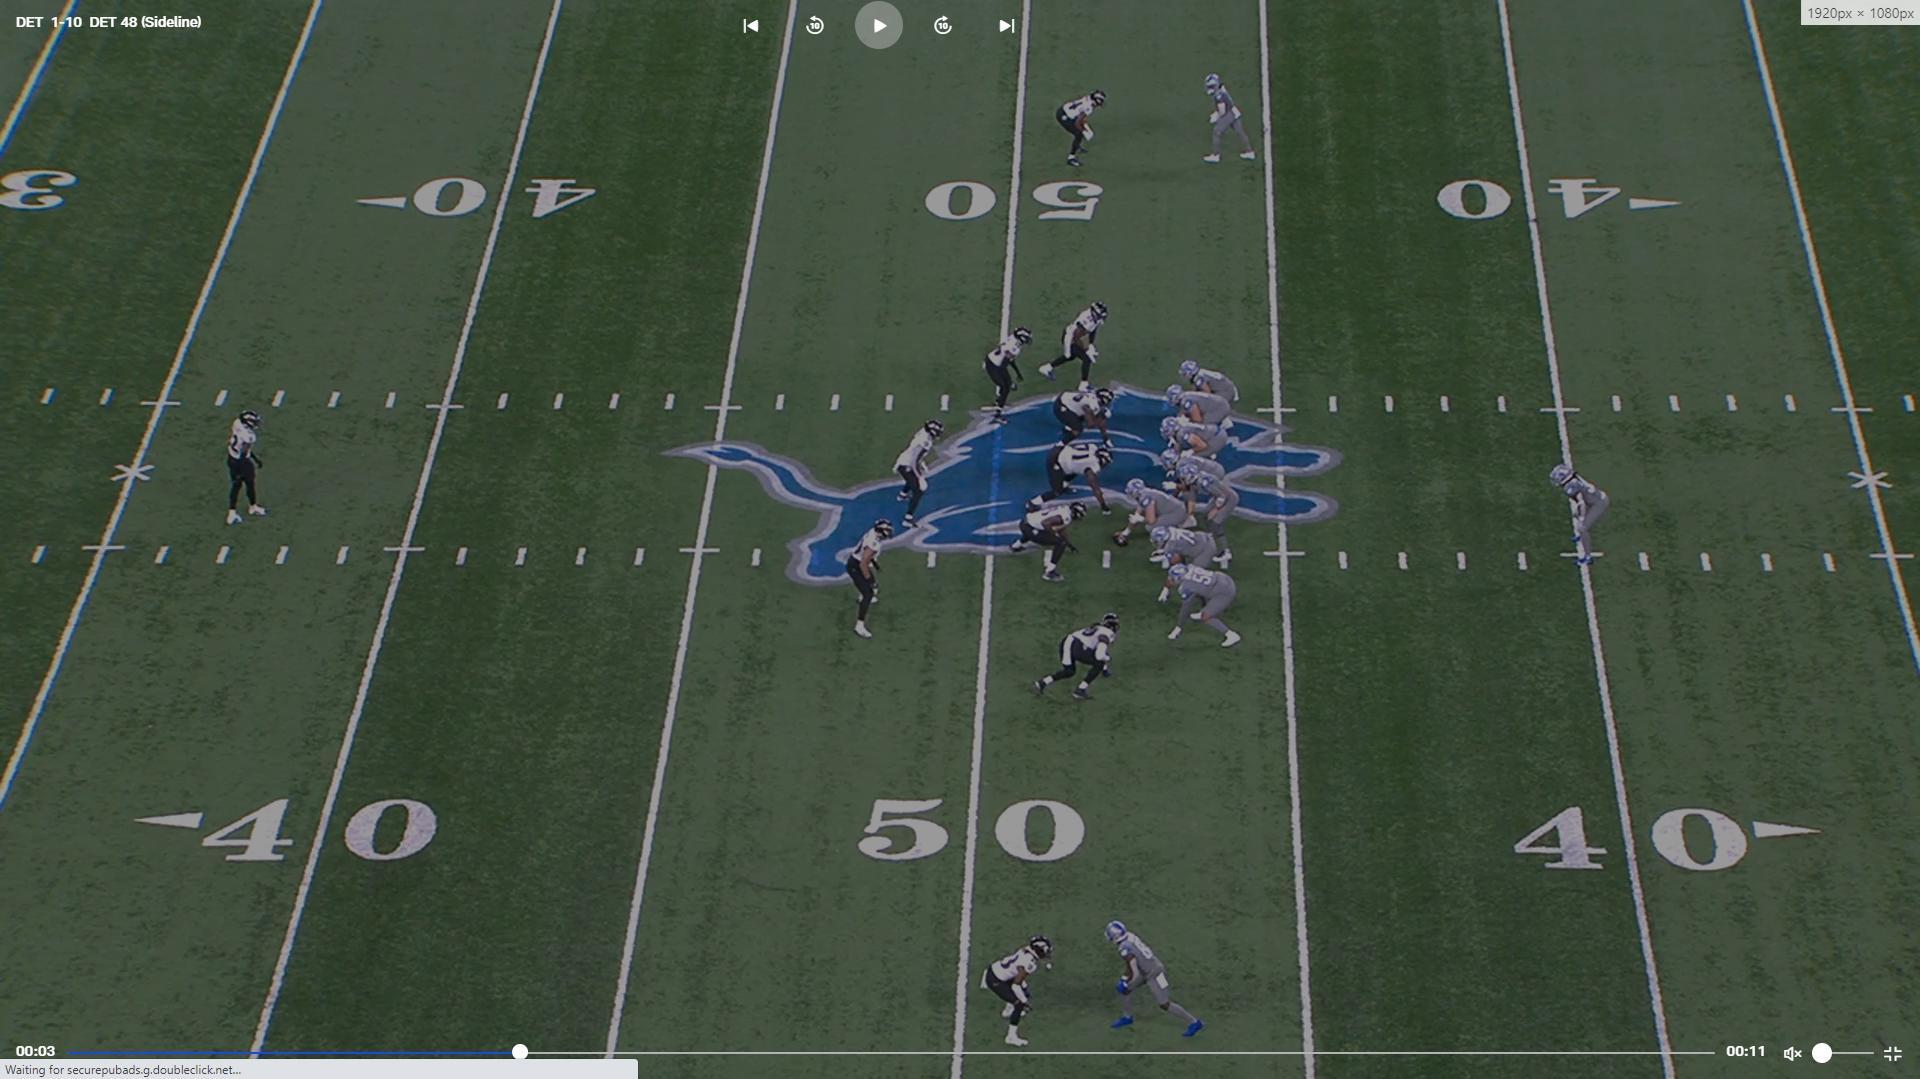defense: (1033, 612, 1126, 704), (988, 931, 1059, 1050), (1011, 495, 1092, 583), (1039, 299, 1113, 393), (219, 405, 270, 533), (1030, 441, 1116, 513), (843, 521, 893, 645), (976, 323, 1035, 426), (897, 417, 951, 529), (1055, 87, 1109, 174), (1050, 383, 1117, 450)
oline: (1159, 561, 1244, 652), (1147, 521, 1222, 604), (1114, 480, 1187, 555), (1158, 447, 1225, 505), (1158, 413, 1222, 468)
qb: (1171, 460, 1229, 541)
skill: (1104, 913, 1212, 1042), (1547, 459, 1615, 565), (1197, 71, 1263, 170), (1175, 356, 1244, 406), (1167, 386, 1230, 441)
